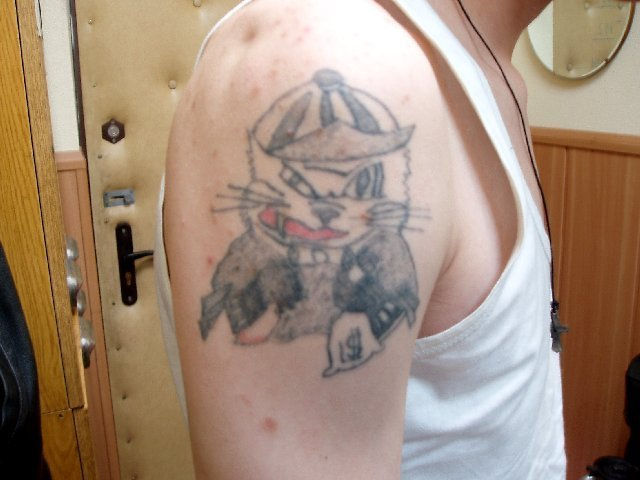tatu8_kot: (194, 60, 425, 371)
